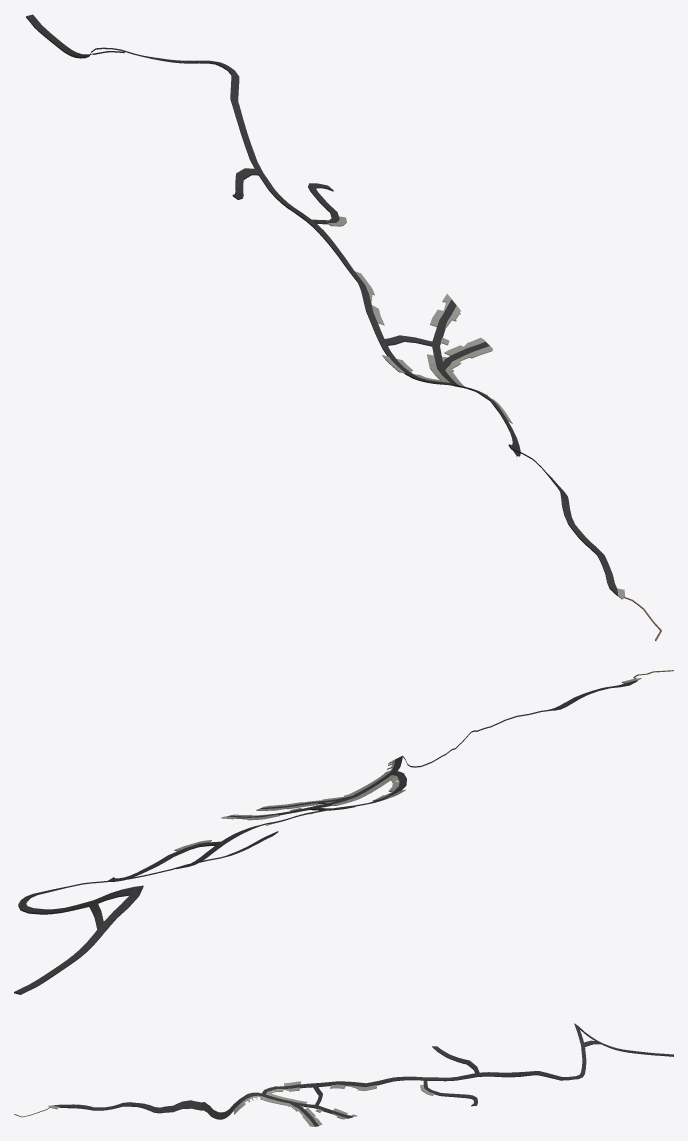
3 views of the same model, one above another, from view 1: azimuth 30°, elevation 25°; view 2: azimuth 150°, elevation 25°; view 3: azimuth 270°, elevation 25° (orthographic). The views are drawn at different scales.
Bounding box in the file's own units: 122 × 158 × 1033.
